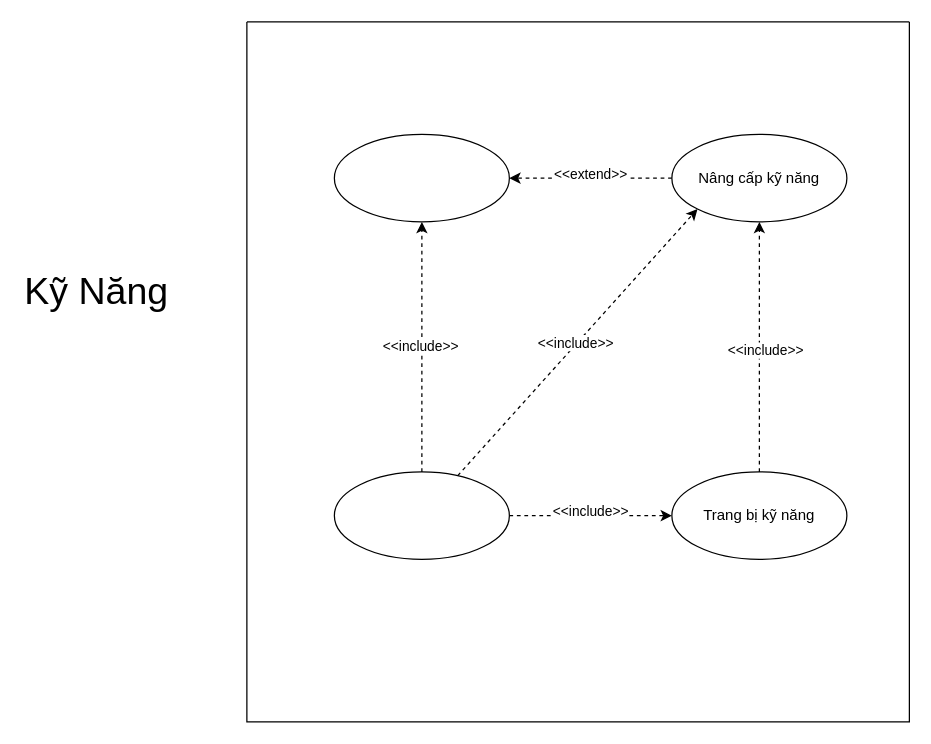
The diagram is 931 pixels wide and 744 high, and some of its shapes have lost their labels. The shapes that lost their labels are listed below. From the top down, each one's centre as x and y in pixels, then its label:
the point at 421,177: Học kỹ năng
the point at 421,515: Xem kỹ năng
